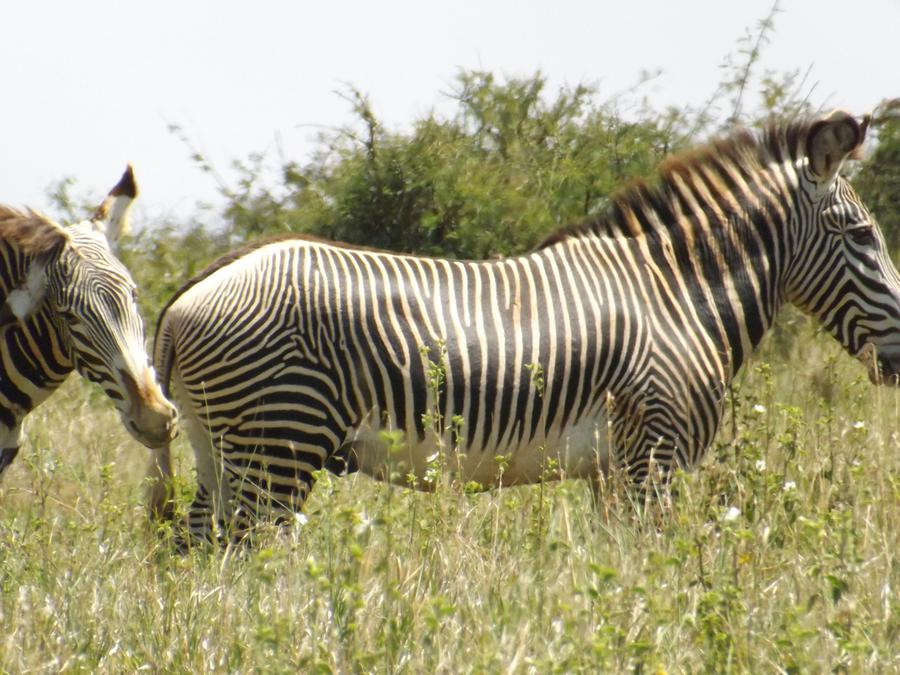zebra_grevys: (145, 209, 703, 469)
